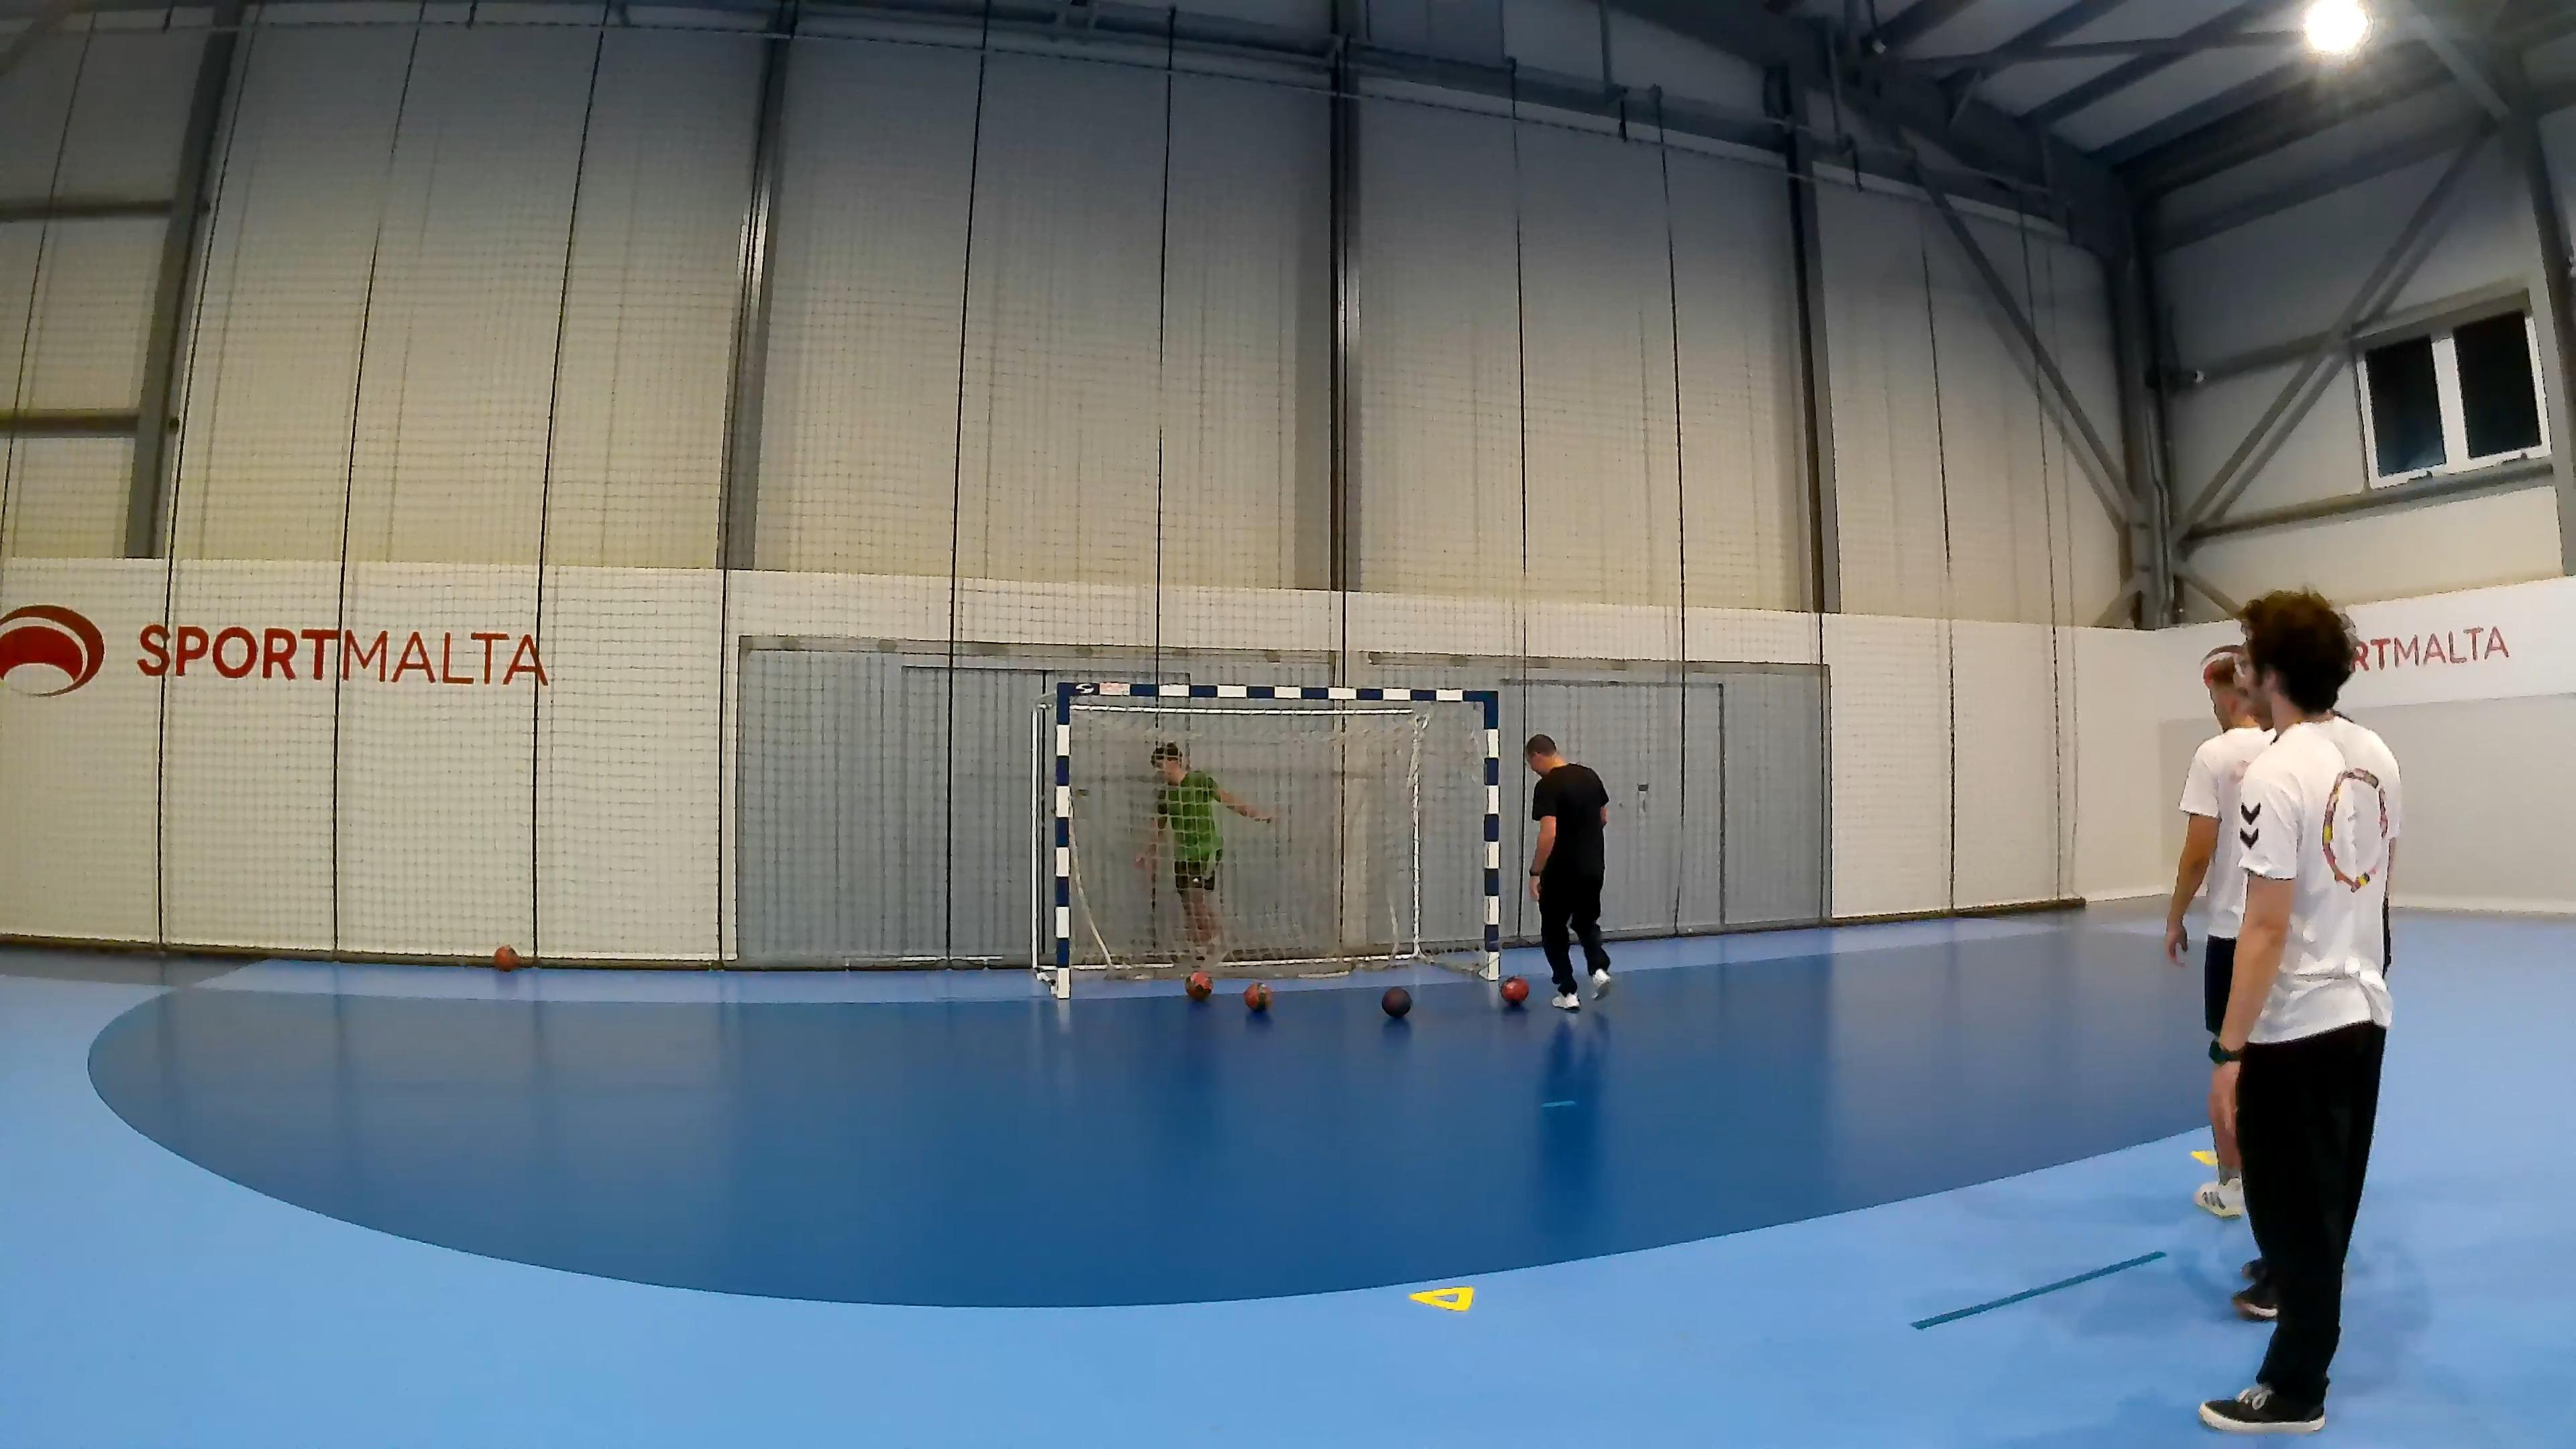handball: (1380, 985, 1412, 1017), (1184, 970, 1212, 1000), (1500, 975, 1529, 1003), (1244, 980, 1270, 1010)
